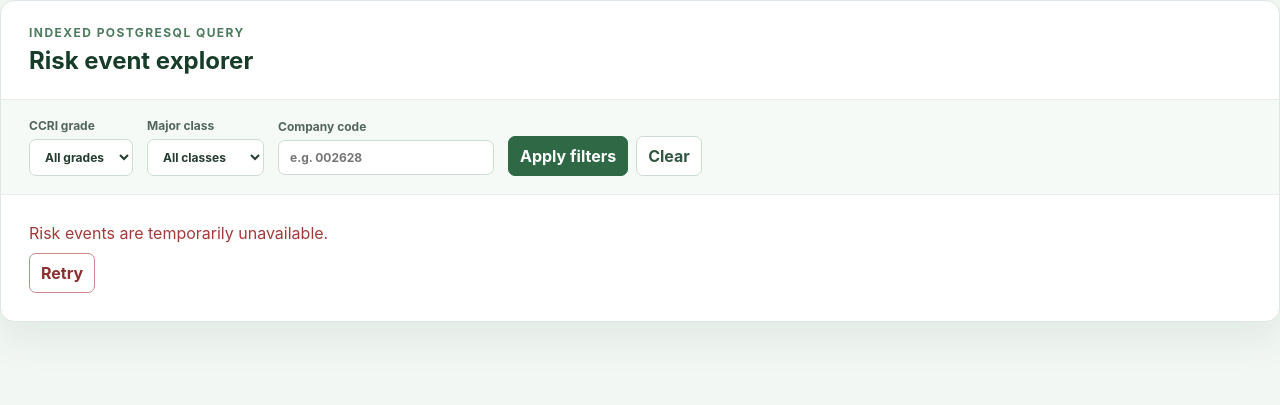
Test case: RiskEventExplorer › retries a failed event request
The image size is (1280, 405).
Click the button "Retry". click: (62, 273)
box: [29, 253, 95, 293]
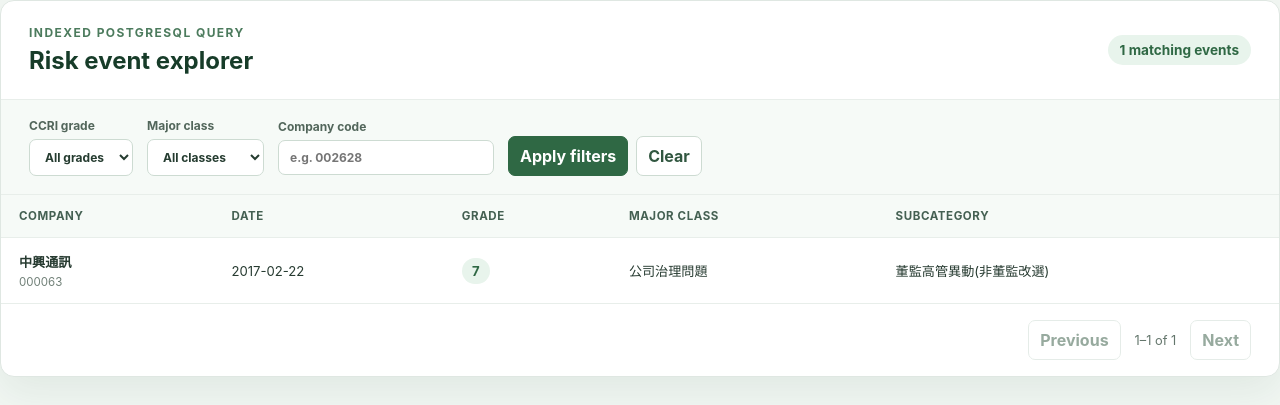
Check: the text "中興通訊" is shown, box [19, 254, 72, 270]
